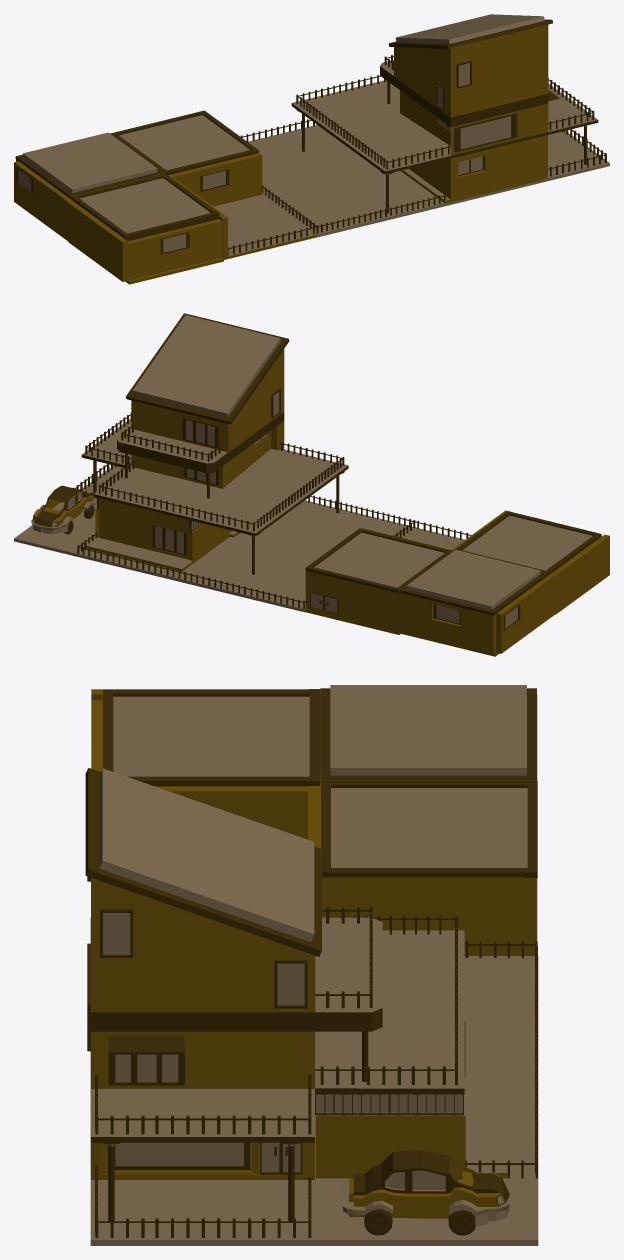
Rendered from FINAL_BUILDING_BLOCKS.fbx.
3 renders of one model, top to bottom at view 1: azimuth 30°, elevation 25°; view 2: azimuth 150°, elevation 25°; view 3: azimuth 270°, elevation 25°, orthographic. The views are drawn at different scales.
Visible parts, largest first — view 1: Custom_Building_Draft_UV_02:Blocks:Mesh, Custom_Building_Draft_UV_02:pCube37, Custom_Building_Draft_UV_02:pCube57, Custom_Building_Draft_UV_02:pCube73, Custom_Building_Draft_UV_02:pCube72, Custom_Building_Draft_UV_02:pCube34, Custom_Building_Draft_UV_02:pCube58, Custom_Building_Draft_UV_02:pCube41, Custom_Building_Draft_UV_02:pCube46, Custom_Building_Draft_UV_02:pCube48, Custom_Building_Draft_UV_02:pCube1, Custom_Building_Draft_UV_02:pCube39 (+10 smaller); view 2: Custom_Building_Draft_UV_02:Blocks:Mesh, Custom_Building_Draft_UV_02:pCube37, Custom_Building_Draft_UV_02:pCube58, Custom_Building_Draft_UV_02:pCube57, Custom_Building_Draft_UV_02:pCube72, Custom_Building_Draft_UV_02:pCube73, Custom_Building_Draft_UV_02:pCube53, Custom_Building_Draft_UV_02:pCube49, Custom_Building_Draft_UV_02:pCube65, Custom_Building_Draft_UV_02:pCube66, pCube3, Custom_Building_Draft_UV_02:pCube69 (+9 smaller); view 3: Custom_Building_Draft_UV_02:Blocks:Mesh, Custom_Building_Draft_UV_02:pCube37, Custom_Building_Draft_UV_02:pCube58, Custom_Building_Draft_UV_02:pCube57, Custom_Building_Draft_UV_02:pCube41, Custom_Building_Draft_UV_02:pCube49, Custom_Building_Draft_UV_02:pCube39, pCube3, Custom_Building_Draft_UV_02:pCube66, Custom_Building_Draft_UV_02:pCube72, Custom_Building_Draft_UV_02:pCube65, Custom_Building_Draft_UV_02:pCube33 (+8 smaller).
Part boxes in pixels (<box>): Custom_Building_Draft_UV_02:Blocks:Mesh: <box>14,110,316,284</box>; Custom_Building_Draft_UV_02:pCube37: <box>291,60,548,174</box>; Custom_Building_Draft_UV_02:pCube57: <box>394,24,548,117</box>; Custom_Building_Draft_UV_02:pCube73: <box>262,169,414,237</box>; Custom_Building_Draft_UV_02:pCube72: <box>248,128,357,192</box>; Custom_Building_Draft_UV_02:pCube34: <box>454,139,542,198</box>; Custom_Building_Draft_UV_02:pCube58: <box>388,14,552,48</box>; Custom_Building_Draft_UV_02:pCube41: <box>512,131,609,189</box>; Custom_Building_Draft_UV_02:pCube46: <box>358,166,512,213</box>; Custom_Building_Draft_UV_02:pCube48: <box>454,113,517,152</box>; Custom_Building_Draft_UV_02:pCube1: <box>409,135,548,199</box>; Custom_Building_Draft_UV_02:pCube39: <box>548,84,598,134</box>; Custom_Building_Draft_UV_02:Blocks:Mesh: <box>305,510,609,656</box>; Custom_Building_Draft_UV_02:pCube37: <box>93,412,348,536</box>; Custom_Building_Draft_UV_02:pCube58: <box>126,313,289,424</box>; Custom_Building_Draft_UV_02:pCube57: <box>131,349,284,452</box>; Custom_Building_Draft_UV_02:pCube72: <box>208,545,318,612</box>; Custom_Building_Draft_UV_02:pCube73: <box>264,504,416,557</box>; Custom_Building_Draft_UV_02:pCube53: <box>99,498,190,559</box>; Custom_Building_Draft_UV_02:pCube49: <box>86,508,229,571</box>; Custom_Building_Draft_UV_02:pCube65: <box>111,536,263,588</box>; Custom_Building_Draft_UV_02:pCube66: <box>14,504,118,564</box>; pCube3: <box>31,485,96,534</box>; Custom_Building_Draft_UV_02:pCube69: <box>79,547,303,607</box>; Custom_Building_Draft_UV_02:Blocks:Mesh: <box>85,685,537,955</box>; Custom_Building_Draft_UV_02:pCube37: <box>90,917,464,1094</box>; Custom_Building_Draft_UV_02:pCube58: <box>85,768,321,956</box>; Custom_Building_Draft_UV_02:pCube57: <box>91,877,315,1012</box>; Custom_Building_Draft_UV_02:pCube41: <box>90,1175,314,1245</box>; Custom_Building_Draft_UV_02:pCube49: <box>315,1021,507,1178</box>; Custom_Building_Draft_UV_02:pCube39: <box>91,1088,314,1142</box>; pCube3: <box>343,1150,513,1226</box>; Custom_Building_Draft_UV_02:pCube66: <box>315,1145,538,1245</box>; Custom_Building_Draft_UV_02:pCube72: <box>464,956,538,1050</box>; Custom_Building_Draft_UV_02:pCube65: <box>315,1050,538,1145</box>; Custom_Building_Draft_UV_02:pCube33: <box>114,1142,250,1170</box>.
Bounding box in the file's own units: 3349 × 1071 × 1357.
